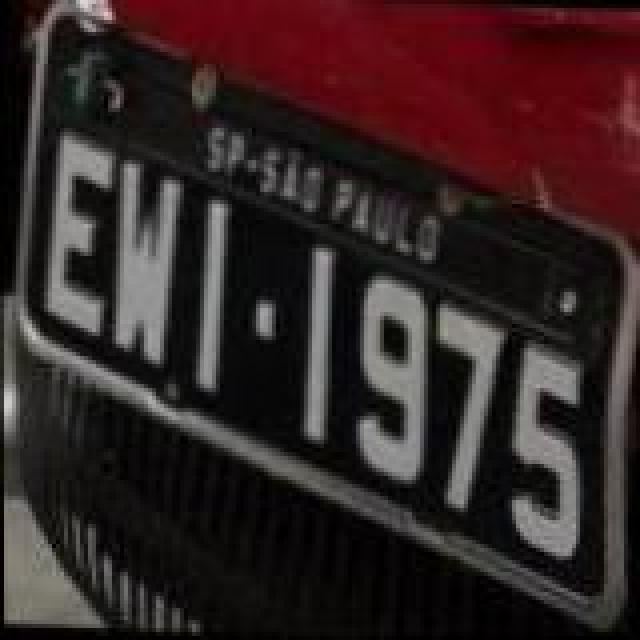1: (302, 244, 342, 448), (190, 198, 230, 394)
5: (500, 340, 588, 564)
7: (422, 296, 506, 520)
9: (348, 278, 436, 490)
E: (40, 130, 120, 342)
W: (106, 160, 186, 368)
